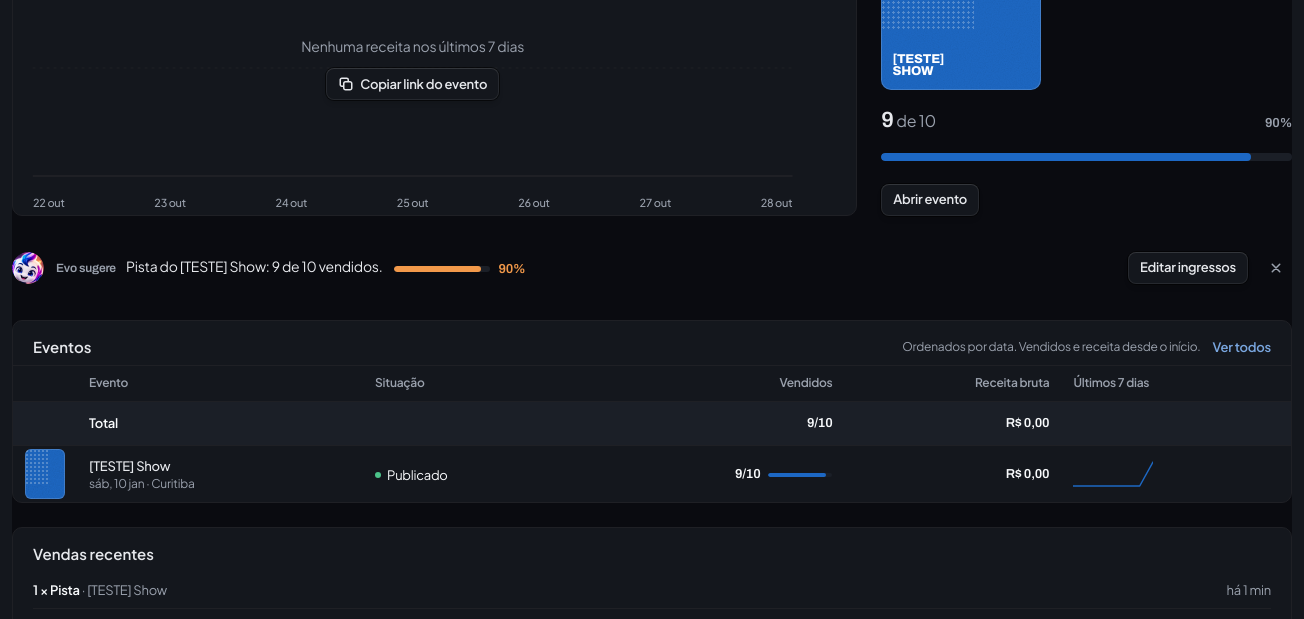
it: Início do produtor › lote com 90% ou mais vendido: aviso com barra e dispensa lembrada
(page scrolled)
expect the element "Evo sugere" reads "Evo sugere Pista do [TESTE] Show: 9 de 10 vendidos. 90% Editar ingressos": met, box [12,252,1292,284]
expect the element "Evo sugere" shows "90%": met, box [12,252,1292,284]
Click the button named "Dispensar sugestão" at (1276, 268), box [1260,252,1292,284]
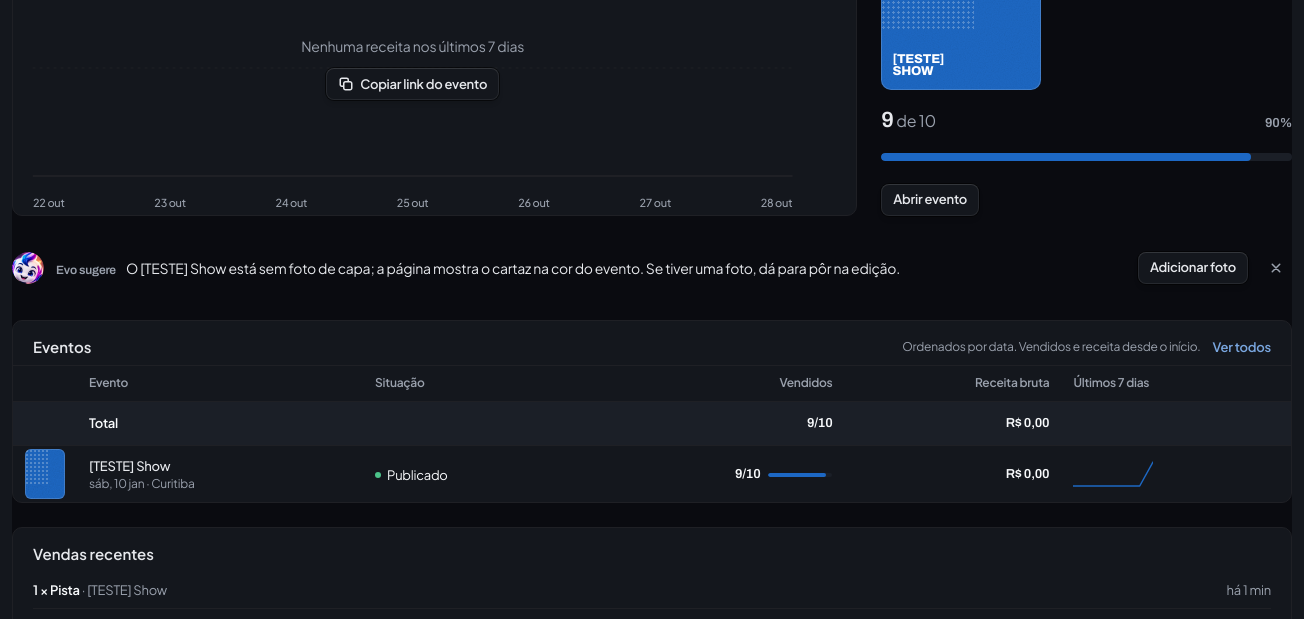
expect the text "de 10 vendidos" is gone: met
